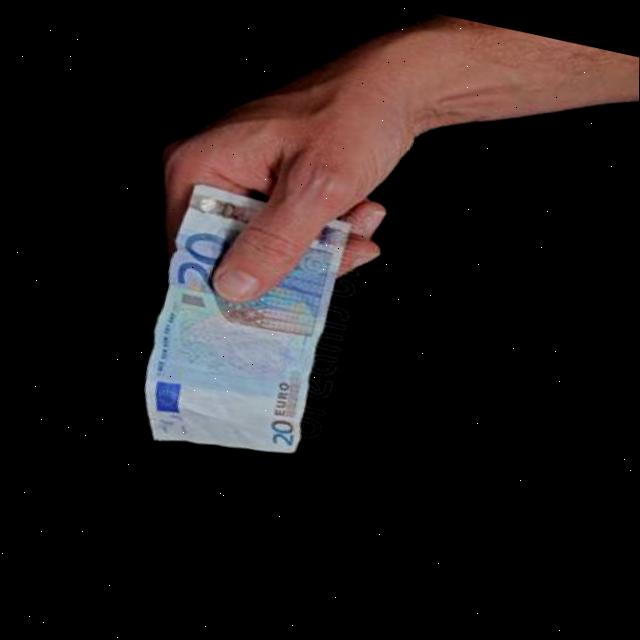banknote: (126, 172, 355, 477), (168, 221, 237, 299), (255, 415, 303, 460), (153, 409, 198, 444)
